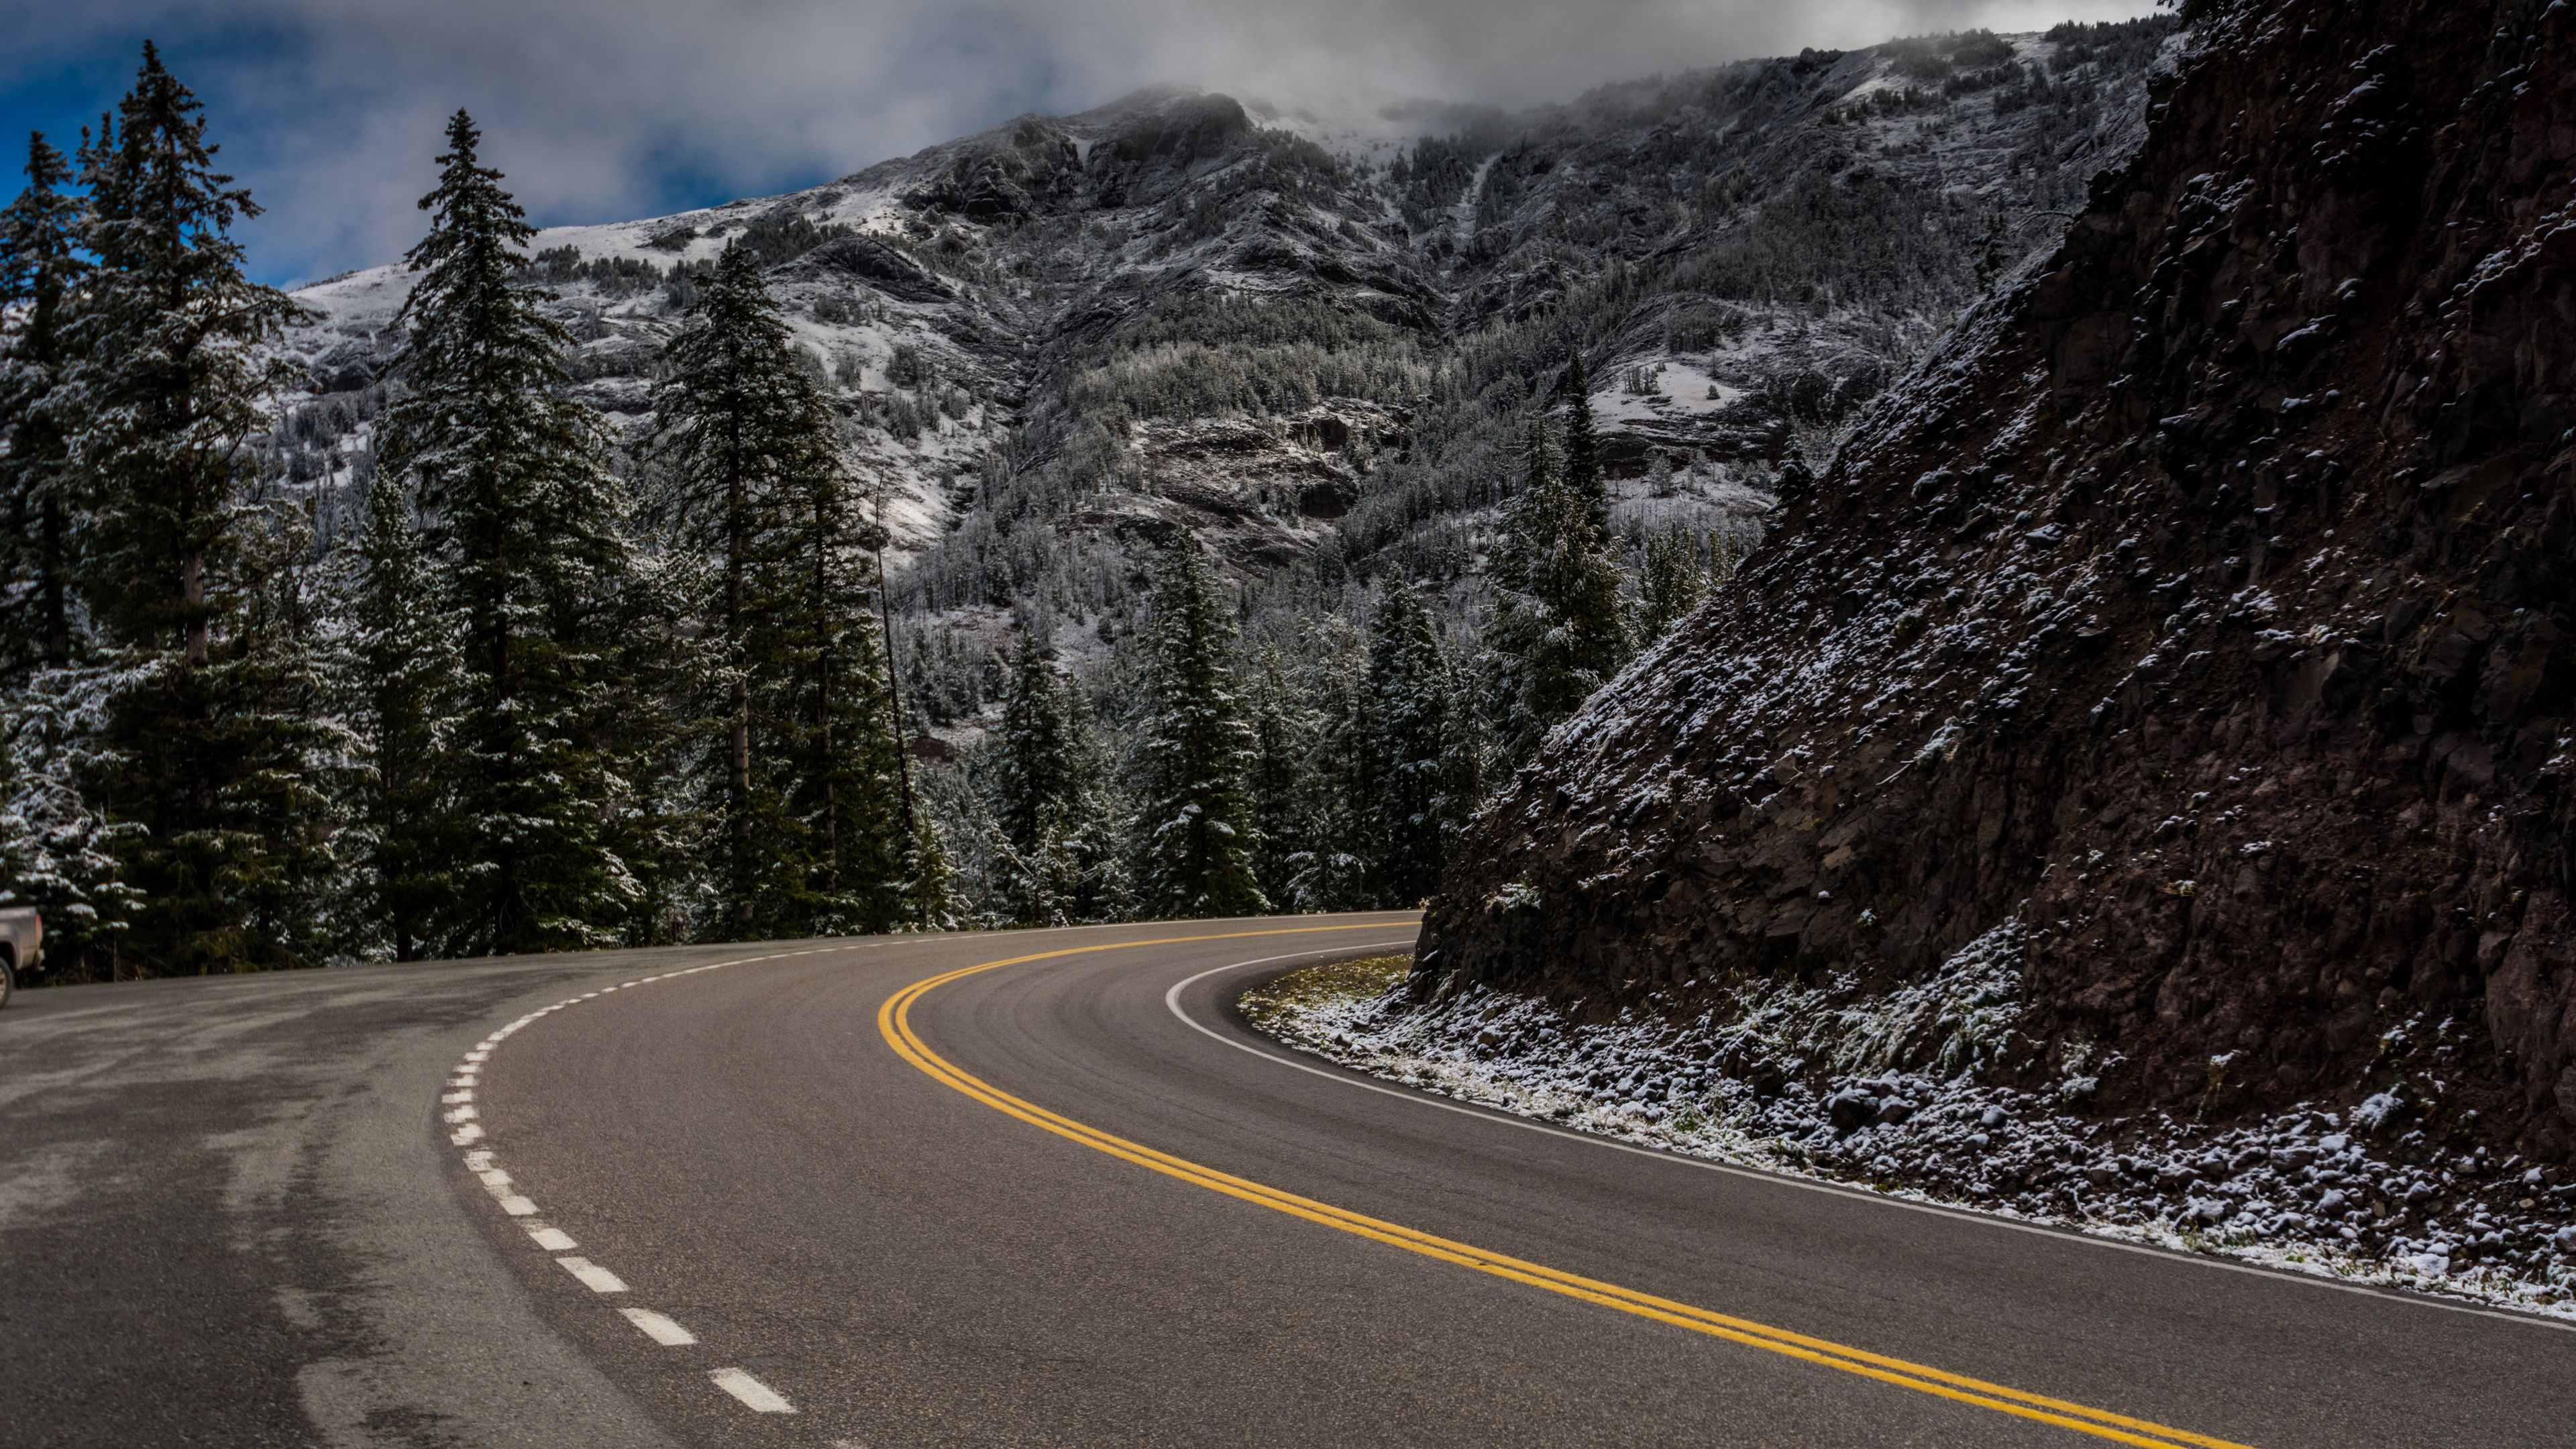rightTrun: (692, 806, 1267, 1393)
